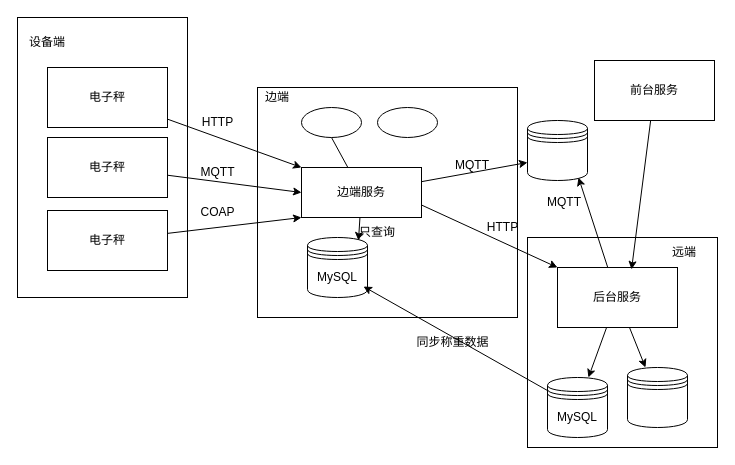
Some shapes in this 735 by 465 pixel diagram are drawn without their labels. The centre of each missing label's shape, as x and y in pixels:
"EMQX" belongs at pixel 331 122.
"JAR" belongs at pixel 407 122.
"MQTT Broker" belongs at pixel 557 150.
"Redis" belongs at pixel 657 397.
